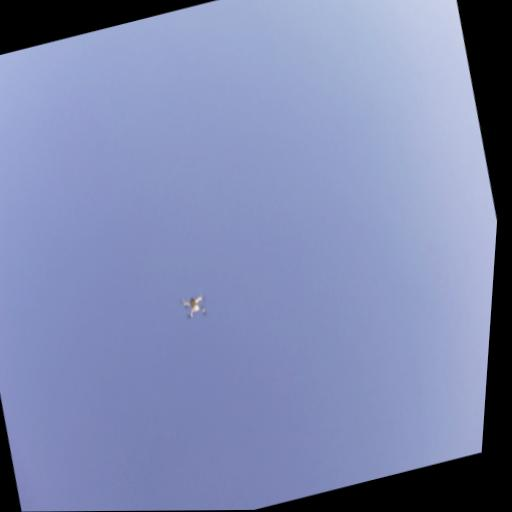drones: (175, 285, 213, 327)
